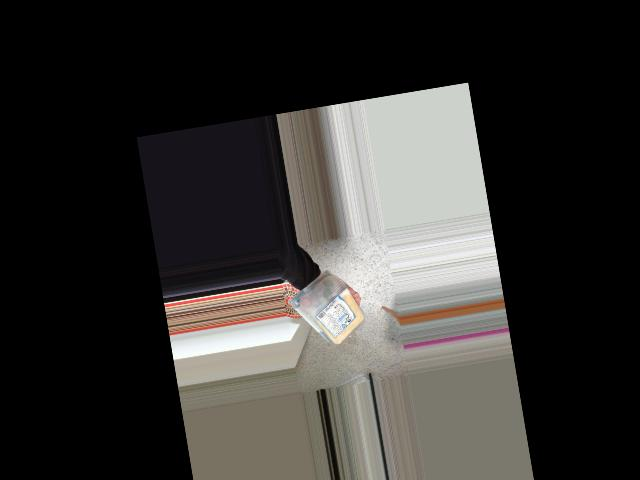cheese: (314, 277, 361, 348)
